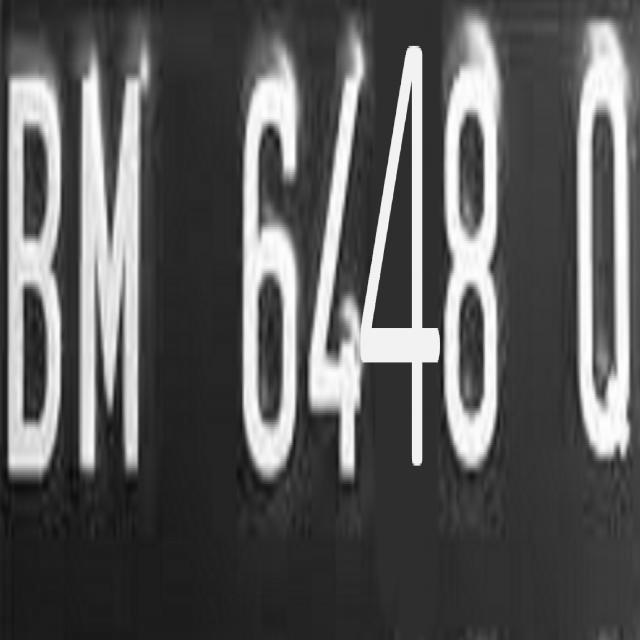4: (361, 43, 438, 468), (308, 55, 367, 482)
6: (215, 50, 302, 488)
8: (430, 53, 520, 480)
B: (7, 65, 68, 492)
M: (70, 65, 150, 478)
Q: (565, 40, 640, 475)
